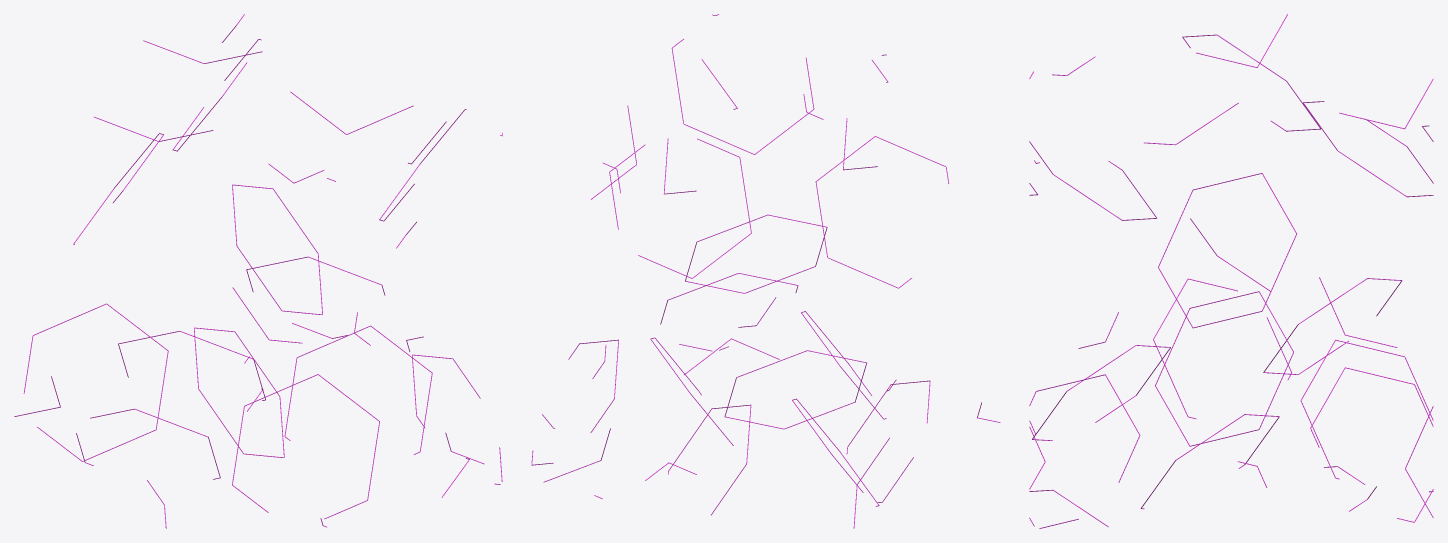
File: ddd000bl.glb
3 views of the same model, side by side, from view 1: azimuth 30°, elevation 25°; view 2: azimuth 150°, elevation 25°; view 3: azimuth 270°, elevation 25° (orthographic). The views are drawn at different scales.
Parts seen in each view (by area): view 1: Shape_IndexedLineSet.001; view 2: Shape_IndexedLineSet.001; view 3: Shape_IndexedLineSet.001.
Boxes of the visible parts, x1,y1,x2,y2 form: Shape_IndexedLineSet.001: [14, 14, 502, 528]; Shape_IndexedLineSet.001: [531, 14, 1000, 528]; Shape_IndexedLineSet.001: [1029, 14, 1433, 528].
Bounding box in the file's own units: 10.02 × 10.02 × 10.02.
